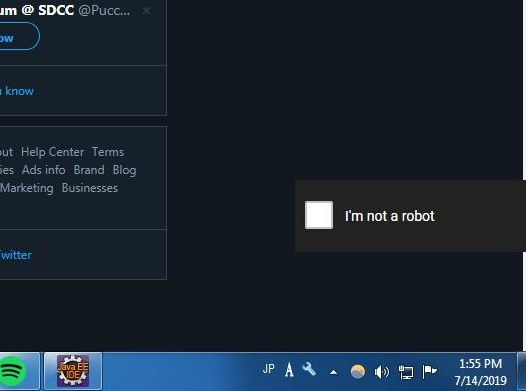captcha: (304, 201, 437, 229)
